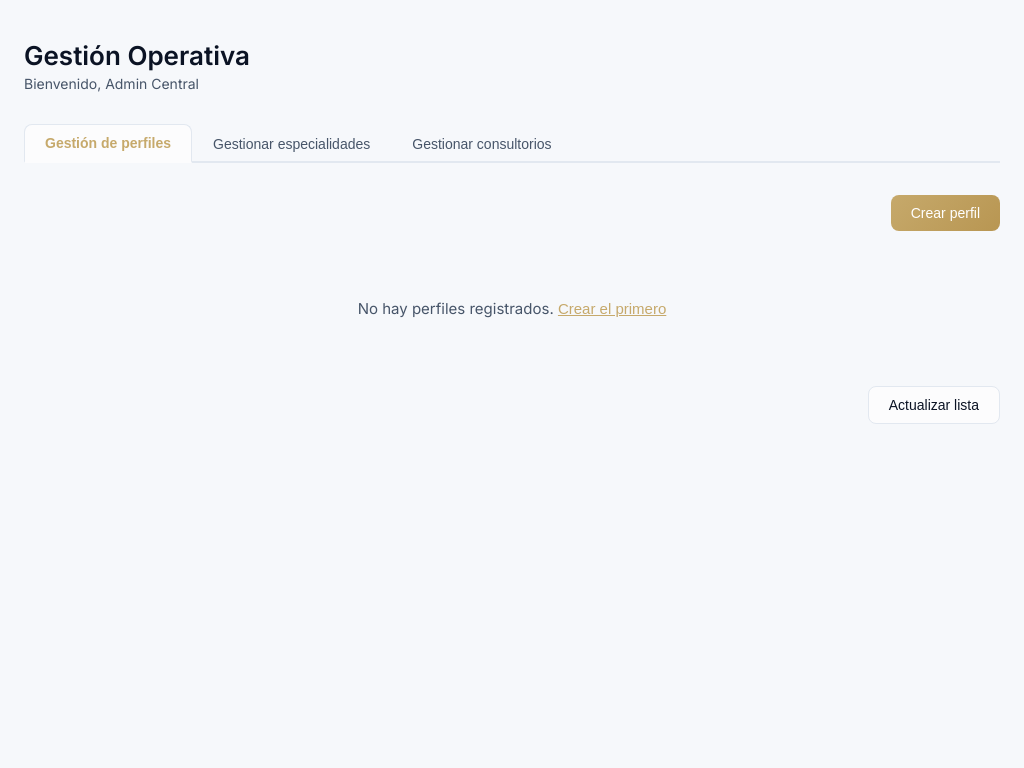
Test: AdminProfilesPage › shows office errors only when office mode is active
Expected: the text "Error de consultorios" is not shown
Click the button with test id "btn-mode-offices".
click(482, 144)  # box [391, 124, 573, 163]
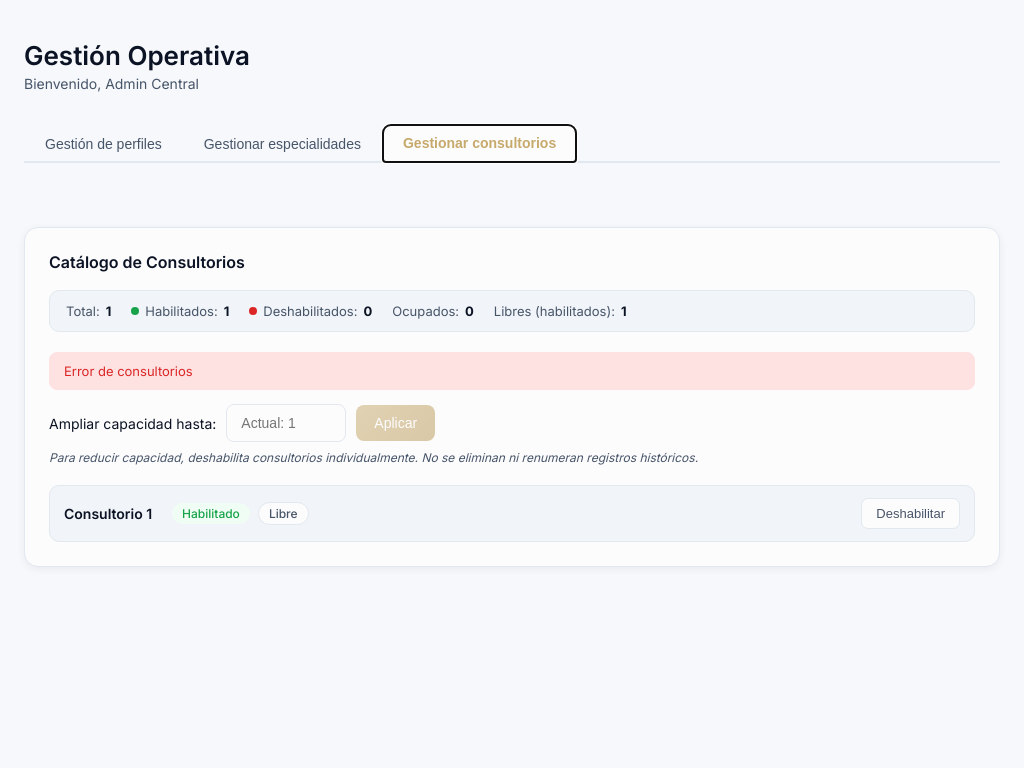
Now the message with test id "office-error" reads "Error de consultorios", box [64, 363, 193, 379]
Click the button with test id "btn-mode-profiles".
click(103, 144)  # box [24, 124, 183, 163]
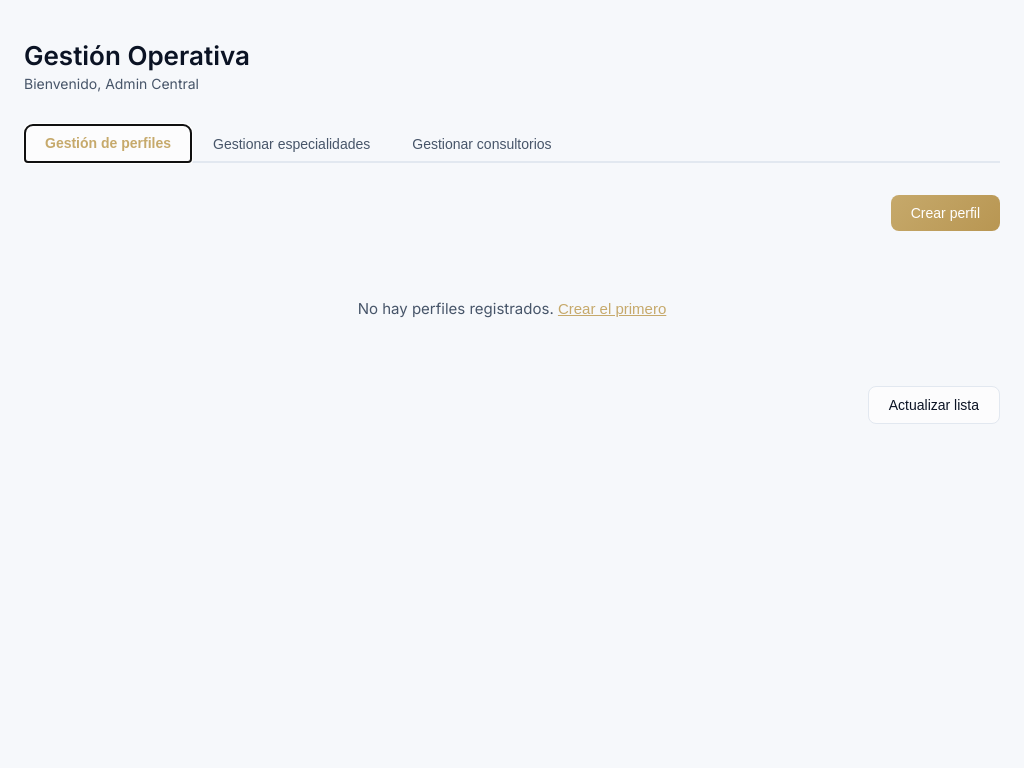
Now the text "Error de consultorios" is gone
